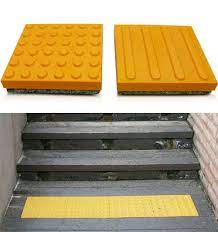guide_blocks: (23, 197, 194, 216)
